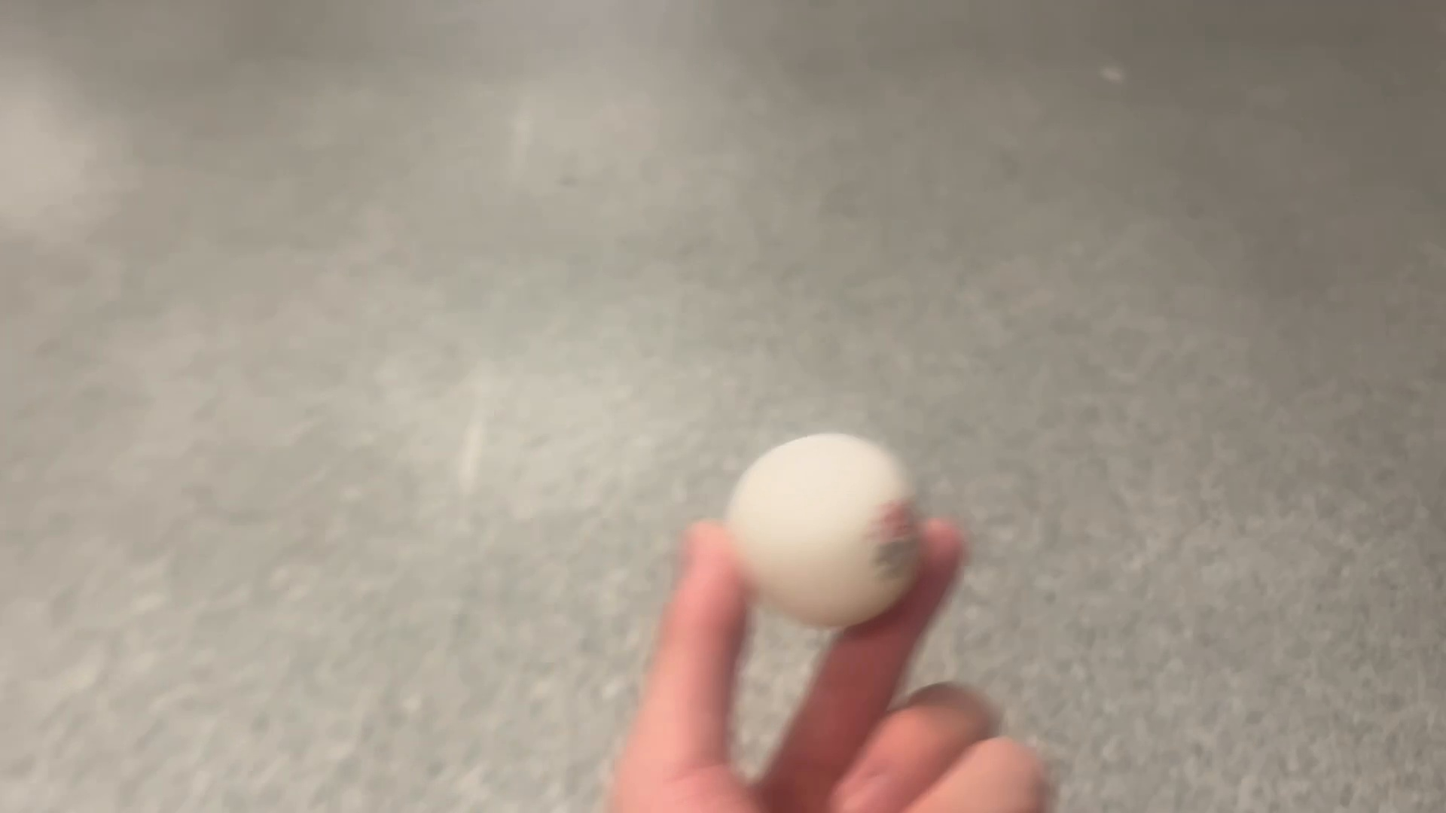Ball: (716, 433, 935, 636)
